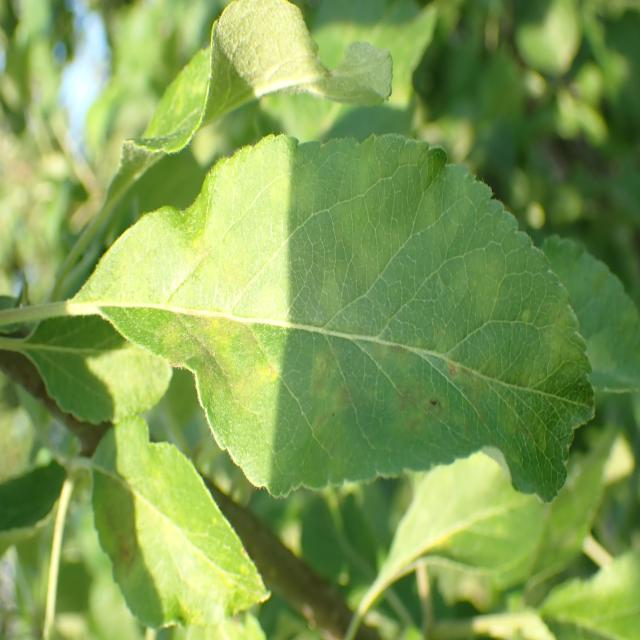scab: (134, 206, 581, 487)
